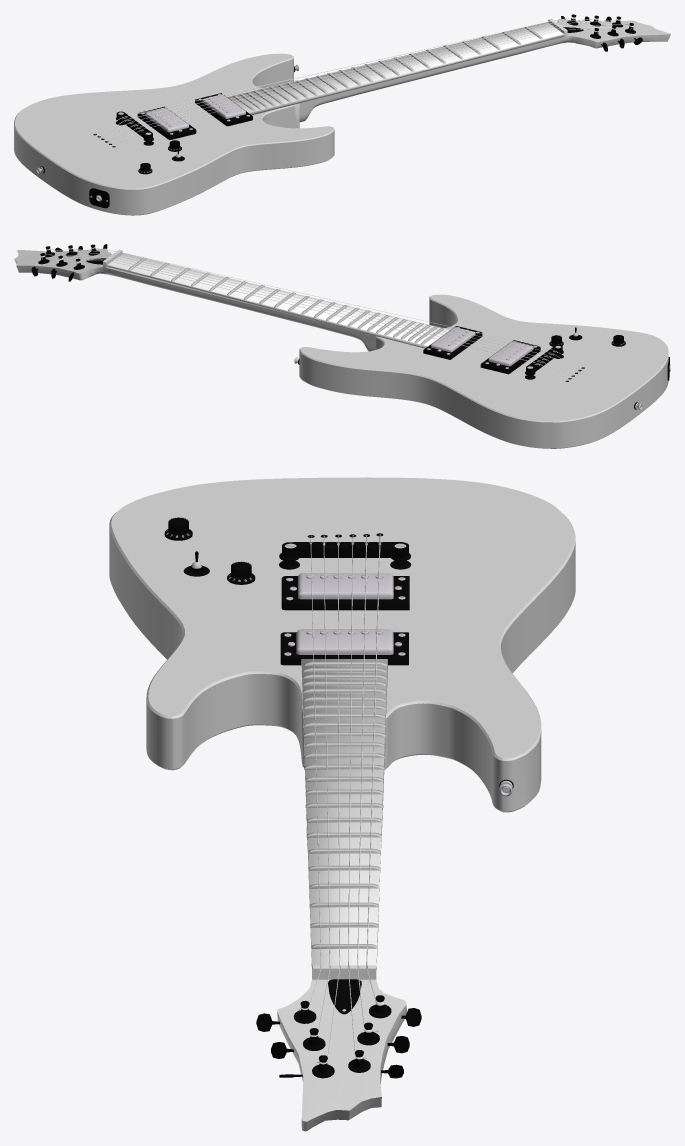
The model's file is guitar.glb.
The picture shows the model from 3 angles, top to bottom: view 1: azimuth 30°, elevation 25°; view 2: azimuth 150°, elevation 25°; view 3: azimuth 270°, elevation 25°; orthographic projection. The views are drawn at different scales.
Parts seen in each view (by area): view 1: cialo, drewno, gryf, frets, pickup, podkladki, struny.001, struny.002, struny.003, struny, struny.004, struny.005 (+3 smaller); view 2: cialo, drewno, gryf, frets, pickup, podkladki, struny.001, struny.002, struny.003, struny, struny.004, most (+2 smaller); view 3: cialo, drewno, gryf, frets, pickup, podkladki, most, bolec, klucze, nut.
Boxes of the visible parts, box(x1,y1,x2,y2) form: cialo: box(14, 53, 334, 215); drewno: box(227, 22, 564, 115); gryf: box(299, 19, 670, 122); frets: box(233, 26, 542, 111); pickup: box(145, 94, 245, 132); podkladki: box(137, 93, 252, 139); struny.001: box(95, 16, 575, 134); struny.002: box(99, 18, 598, 136); struny.003: box(103, 18, 620, 138); struny: box(107, 24, 633, 141); struny.004: box(111, 27, 616, 143); struny.005: box(114, 28, 598, 146); cialo: box(299, 294, 668, 448); drewno: box(106, 253, 449, 348); gryf: box(14, 248, 375, 351); frets: box(128, 257, 444, 344); pickup: box(431, 327, 533, 366); podkladki: box(423, 326, 540, 374); struny.001: box(76, 259, 566, 380); struny.002: box(57, 257, 569, 378); struny.003: box(40, 254, 572, 375); struny: box(46, 248, 575, 372); struny.004: box(68, 247, 579, 370); most: box(525, 345, 563, 379); cialo: box(109, 477, 575, 812); drewno: box(301, 659, 387, 969); gryf: box(277, 742, 406, 1131); frets: box(303, 661, 387, 948); pickup: box(296, 573, 393, 654); podkladki: box(280, 576, 409, 665); most: box(279, 542, 411, 569); bolec: box(293, 995, 391, 1078); klucze: box(256, 1008, 421, 1078); nut: box(312, 965, 376, 979).
Bounding box in the file's own units: 5.31 × 0.3166 × 1.72.
Materials: 11 (1 with a texture image).
